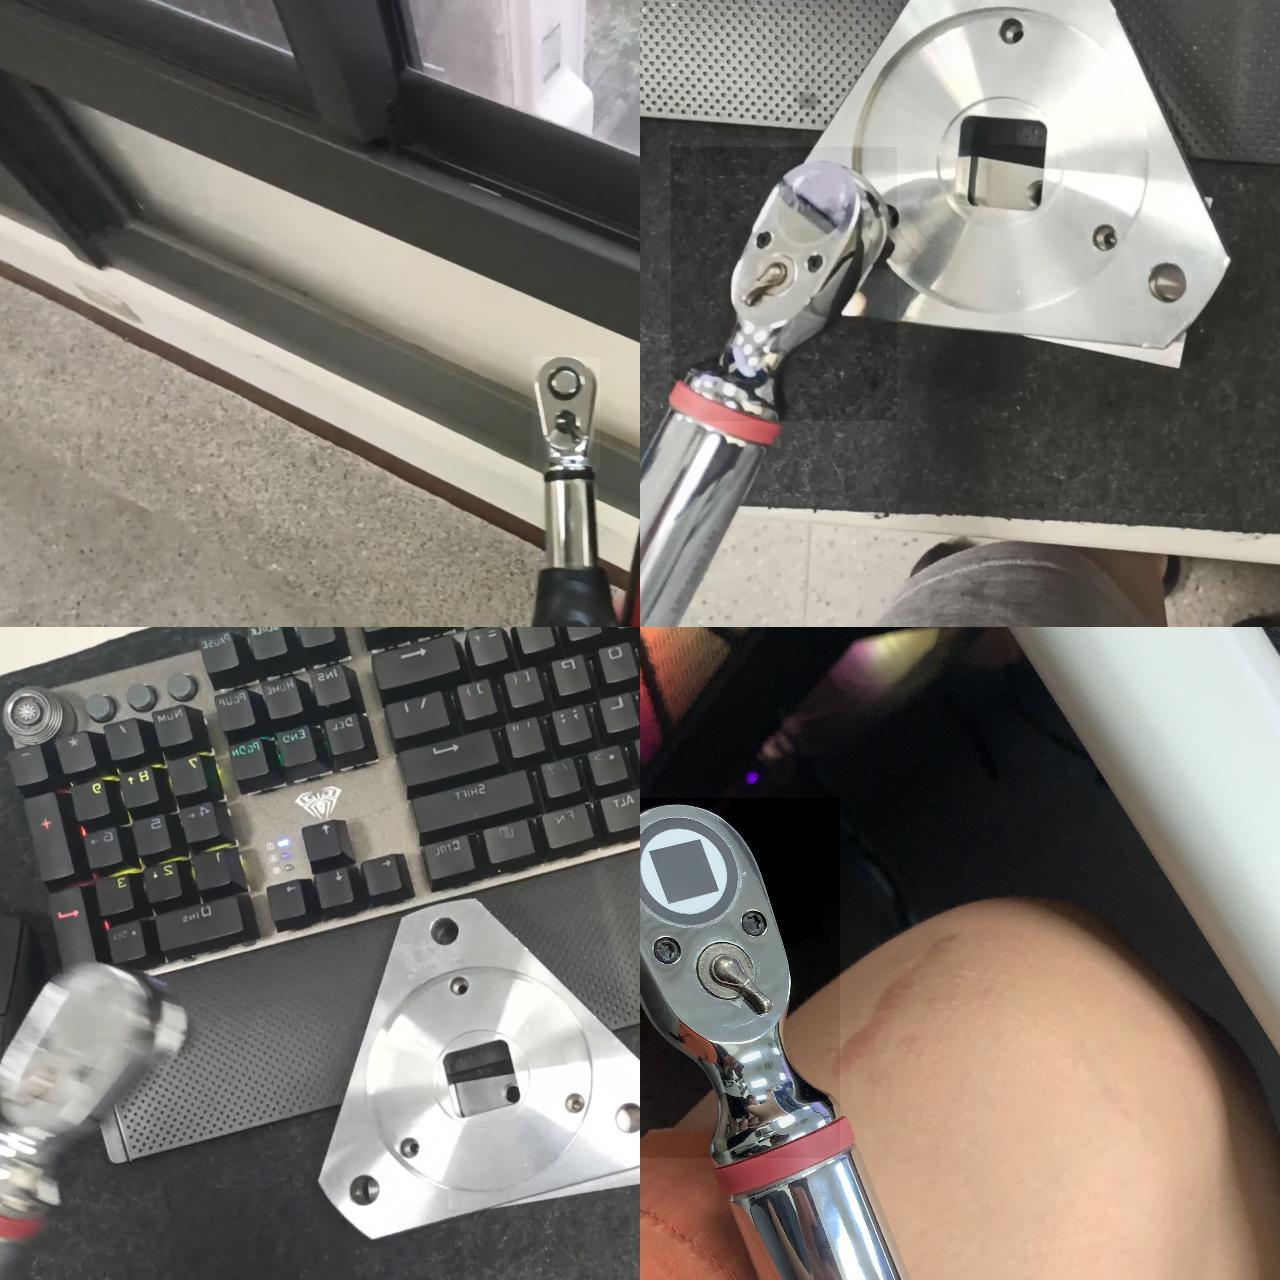Tool: (640, 797, 839, 1157), (669, 147, 897, 420), (531, 356, 599, 468)
